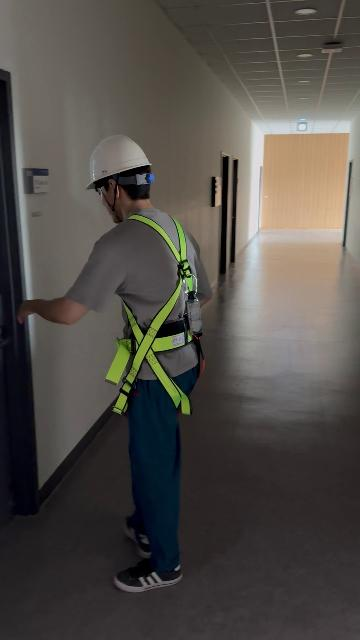helmet_worn: (85, 134, 154, 189)
shoe_not_worn: (114, 558, 182, 591), (124, 517, 151, 560)
vest_worn: (106, 215, 204, 411)
